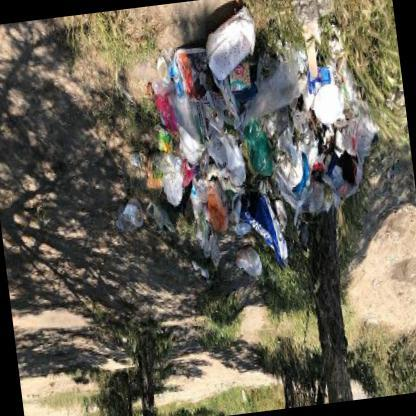Garbage: (93, 0, 392, 296), (260, 110, 327, 219), (186, 0, 257, 100), (147, 120, 206, 212), (329, 120, 370, 214), (294, 13, 335, 104), (161, 32, 200, 126), (217, 126, 249, 184), (307, 37, 331, 106), (144, 67, 163, 154), (154, 34, 182, 90), (222, 245, 266, 280), (128, 135, 152, 187), (122, 198, 140, 231), (191, 253, 208, 283)
